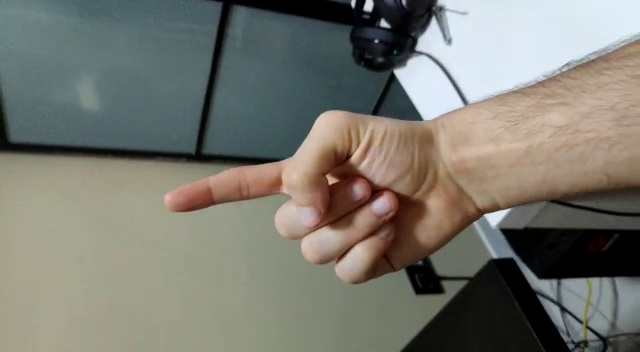One: (160, 114, 439, 287)
